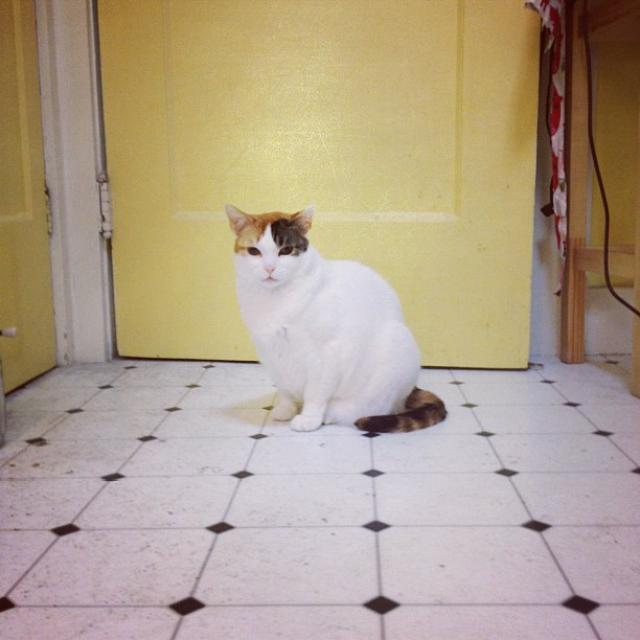cats: (220, 198, 453, 439)
